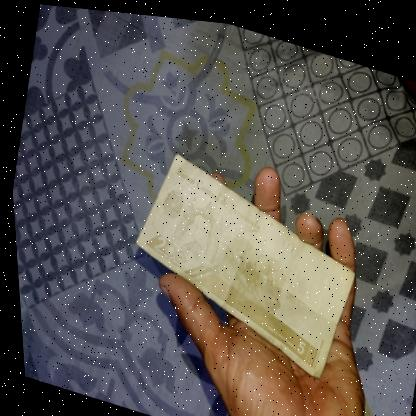five-back-vef: (111, 138, 370, 380)
